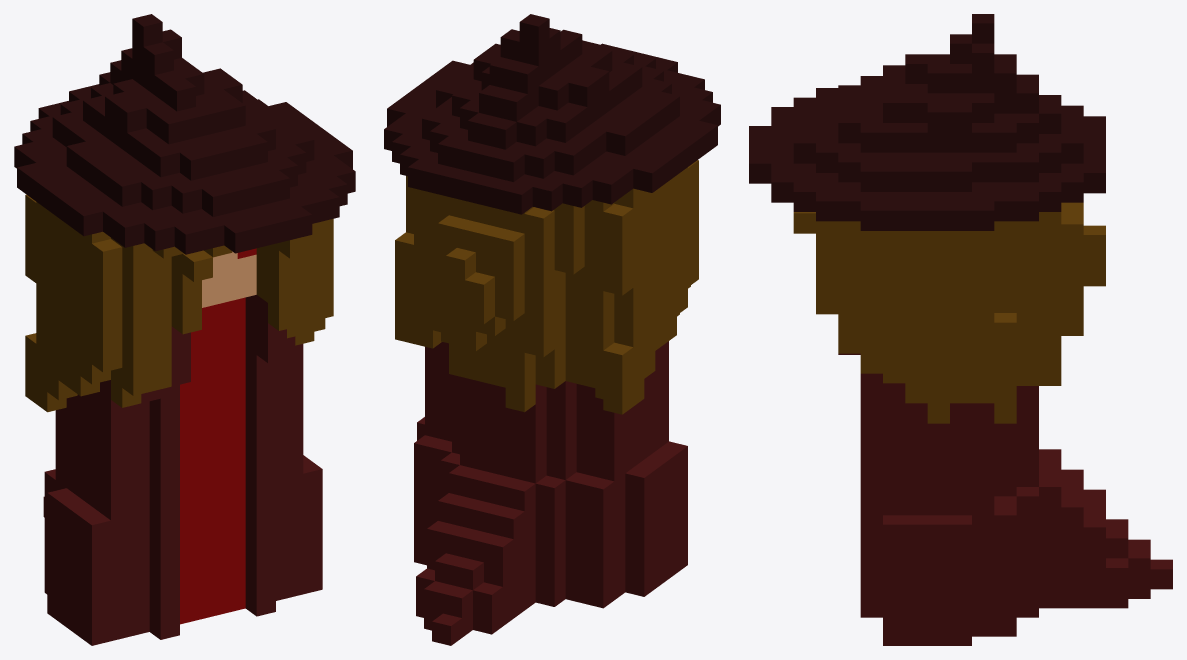
Rendered from Bruxa 02 - Idle-01.obj.
3 renders of one model, left to right at view 1: azimuth 30°, elevation 25°; view 2: azimuth 150°, elevation 25°; view 3: azimuth 270°, elevation 25°, orthographic.
Bounding box in the file's own units: 14 × 28 × 19.
Materials: 1 (1 with a texture image).
